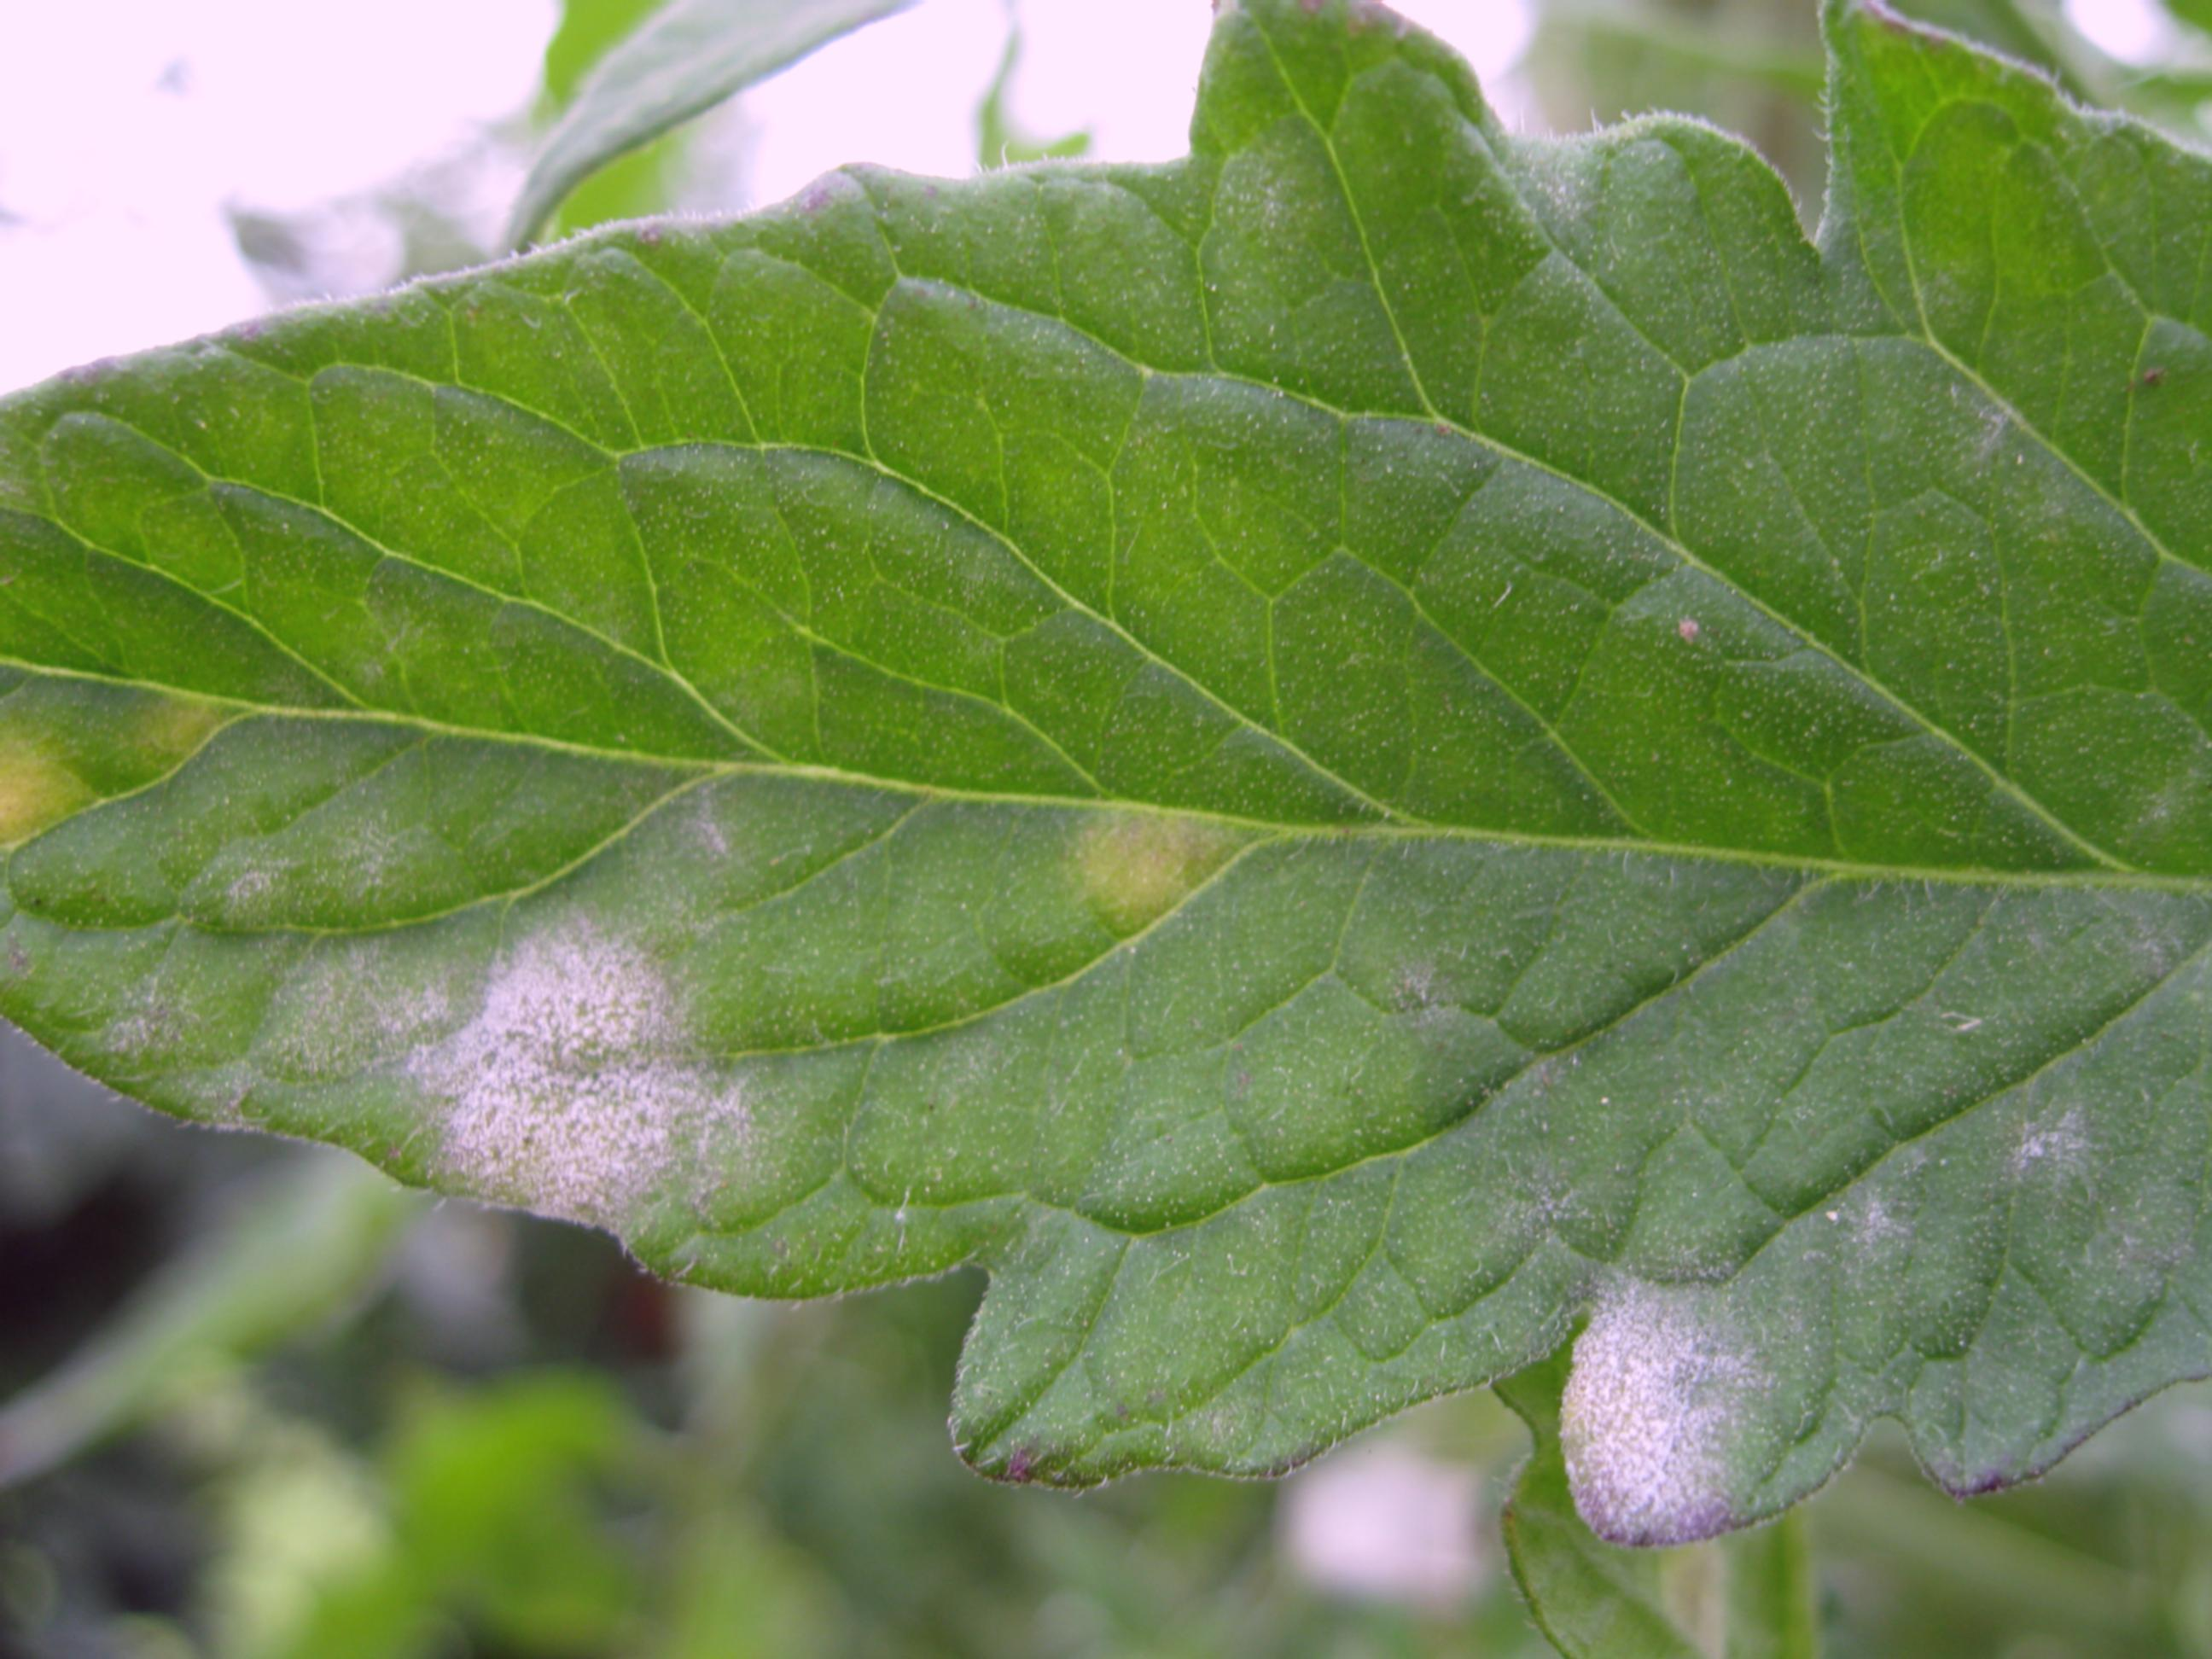Tomato mold leaf: (5, 16, 2212, 1568)
